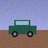vehicle: (9, 20, 36, 37)
